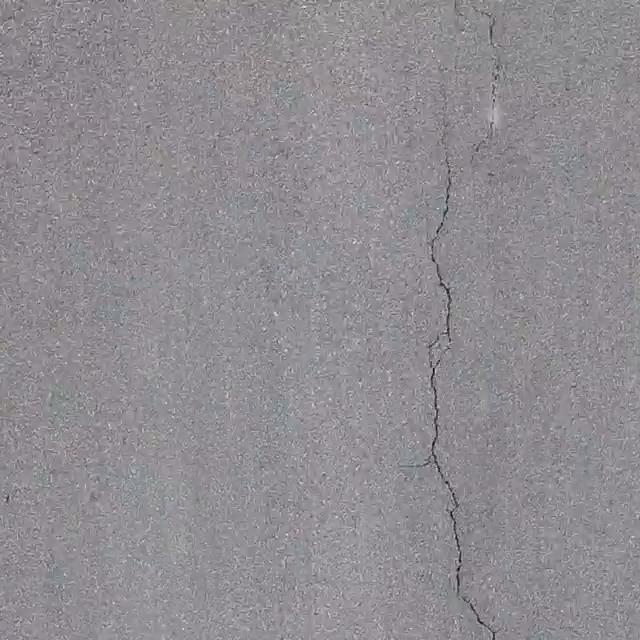GRIETA: (427, 122, 496, 639), (471, 5, 500, 152)
